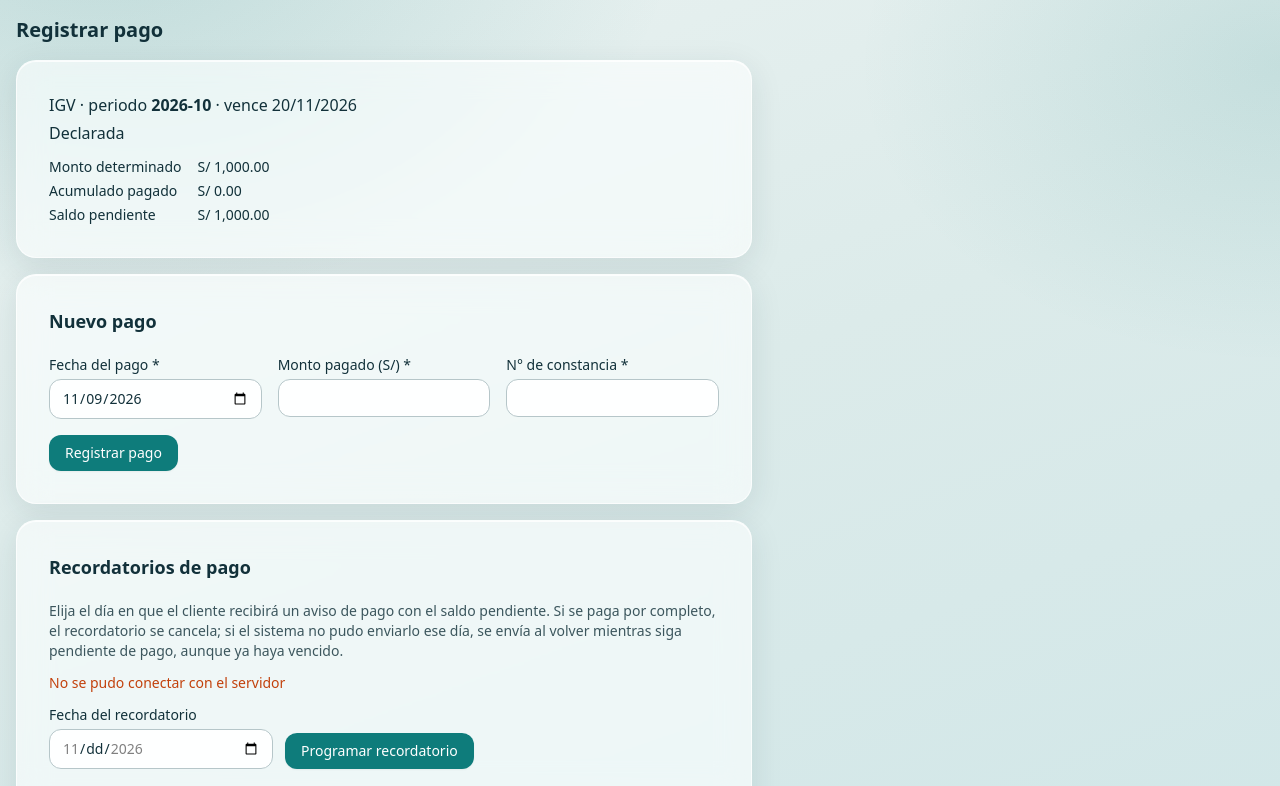
Test: Registrar pago (HU-13, tarea 7) › el pago que salda la obligación la deja pagada: el aviso lo dice y el formulario desaparece
Expected: the text "Declarada" is shown, [49,122,125,144]
Type "1000" into the number field labelled "Monto pagado (S/) *" at (384, 398), box [278,379,490,417]
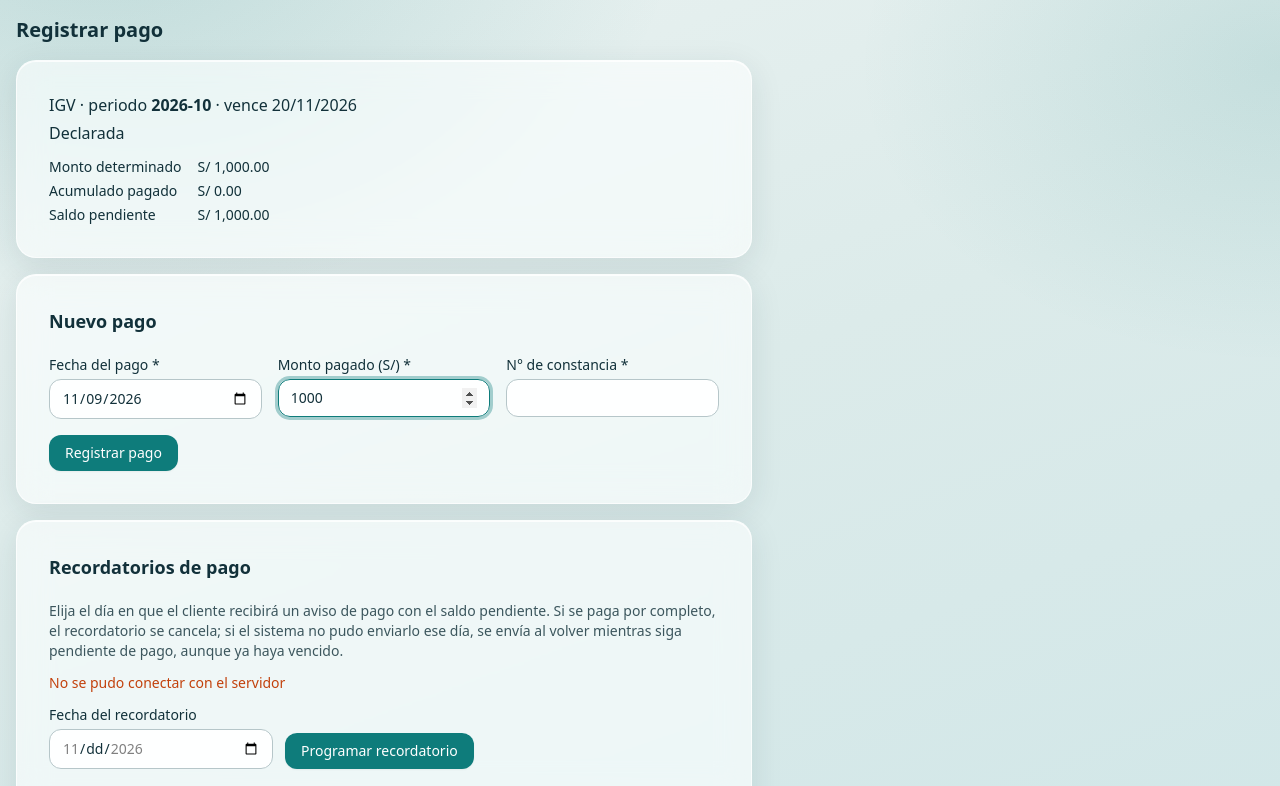
Type "C-001" into the field labelled "N° de constancia *" at (613, 398), box [506,379,719,417]
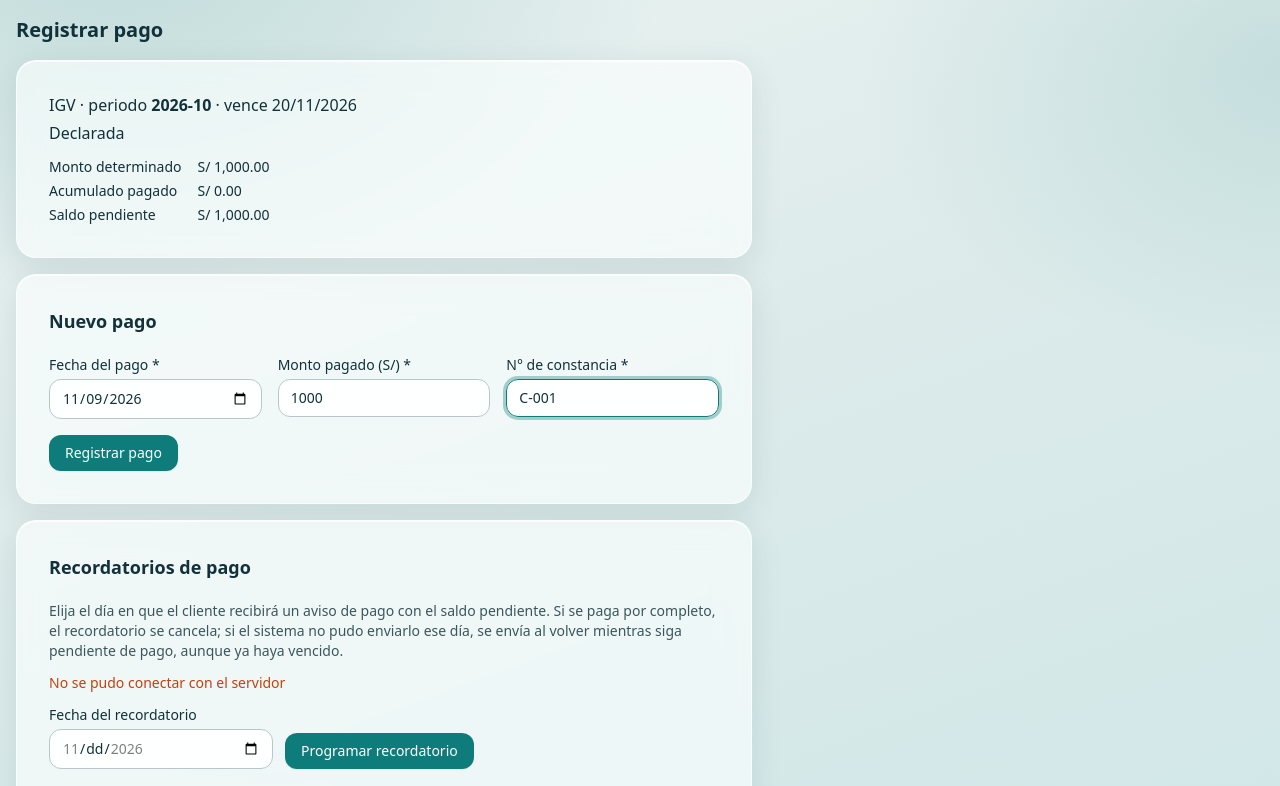
Click the button "Registrar pago" at (113, 453), box [49,435,178,471]
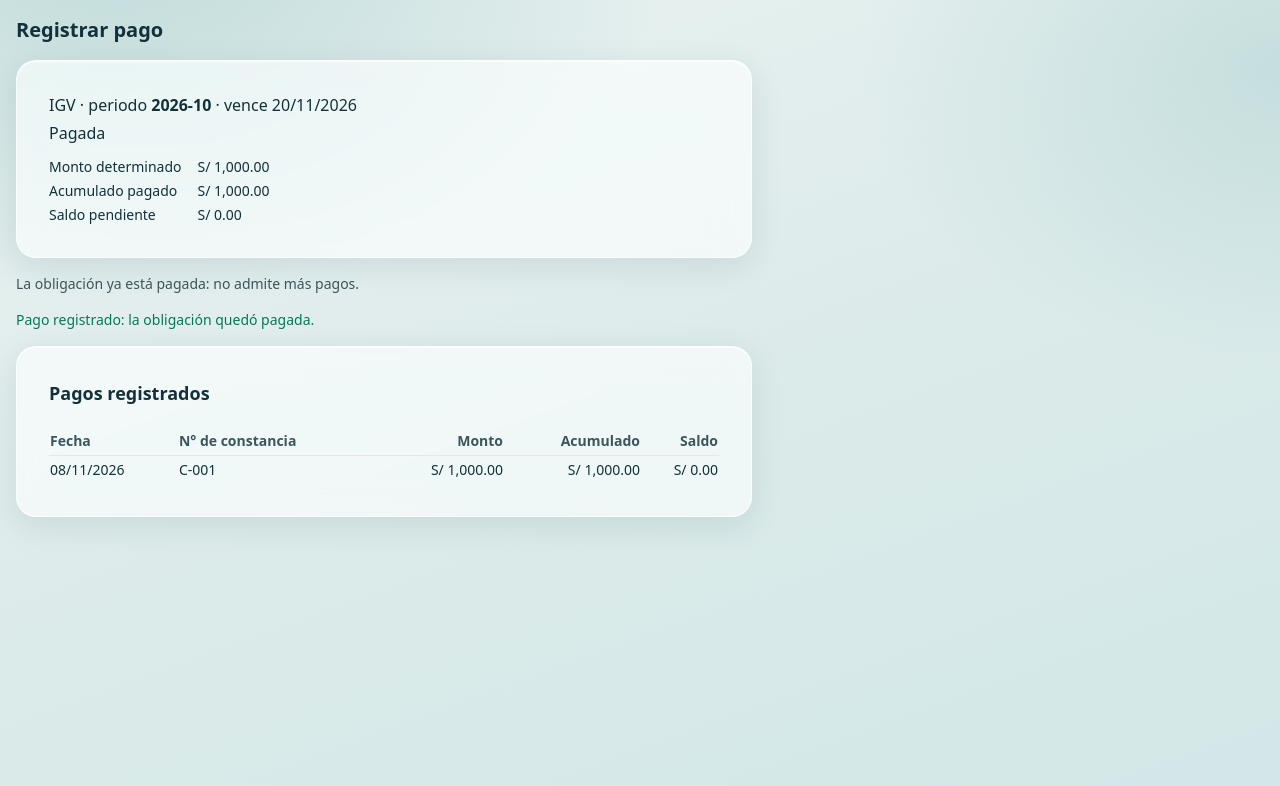
Result: the text "Pago registrado: la obligación quedó pagada." is shown at [16,310,314,329]
Result: the text "La obligación ya está pagada: no admite más pagos." is shown at [16,274,359,293]
Result: the text with test id "estado" reads "Pagada" at [49,122,105,144]
